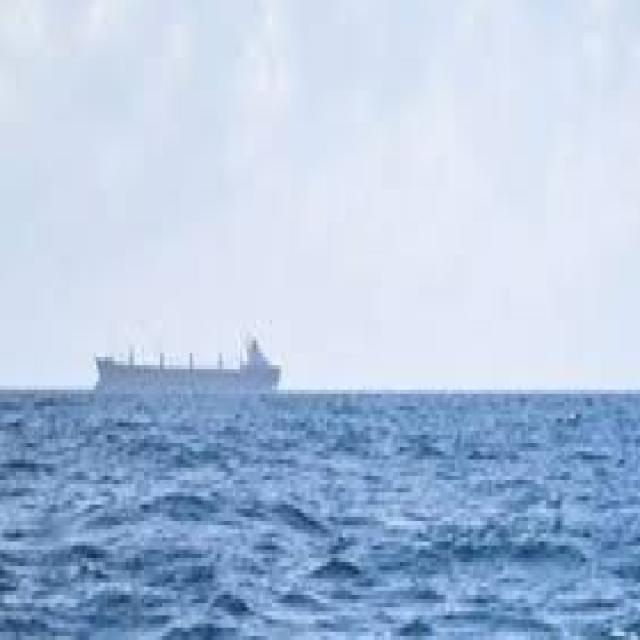cargoship: (90, 328, 282, 392)
